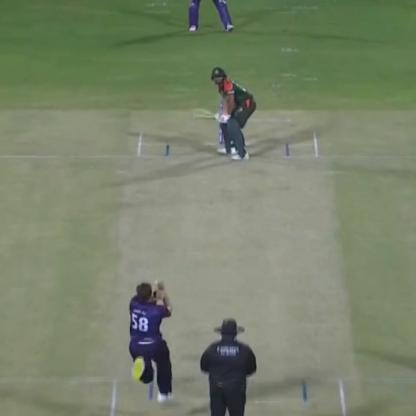bat: (184, 104, 234, 122)
pitch: (107, 140, 348, 416)
